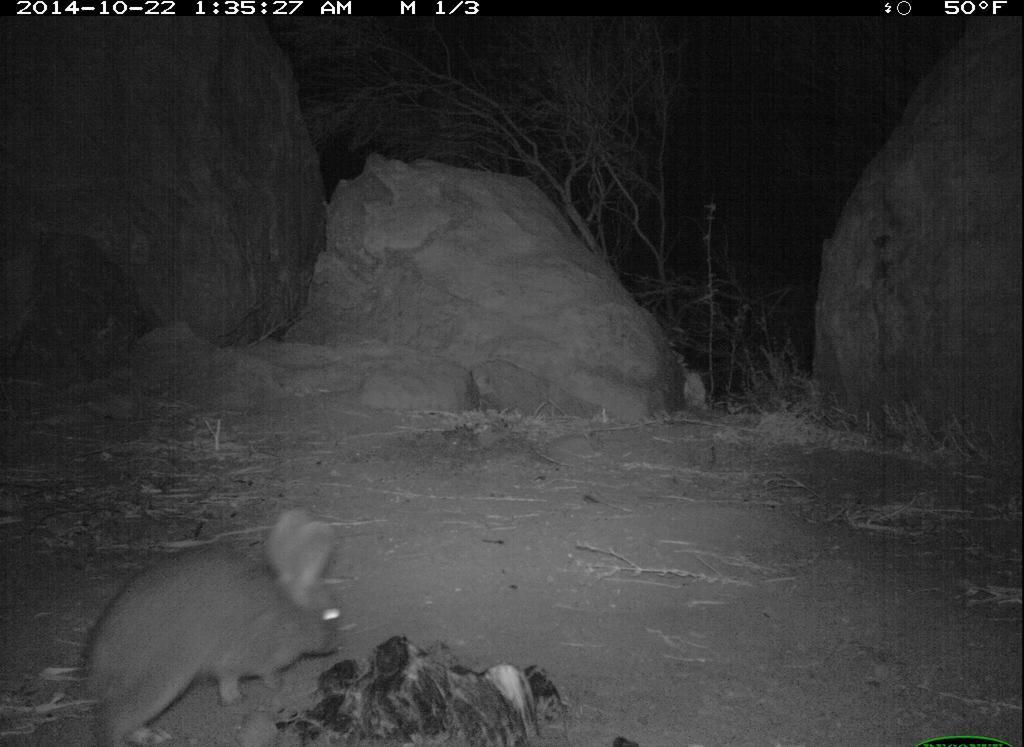rabbit: (73, 492, 351, 747)
